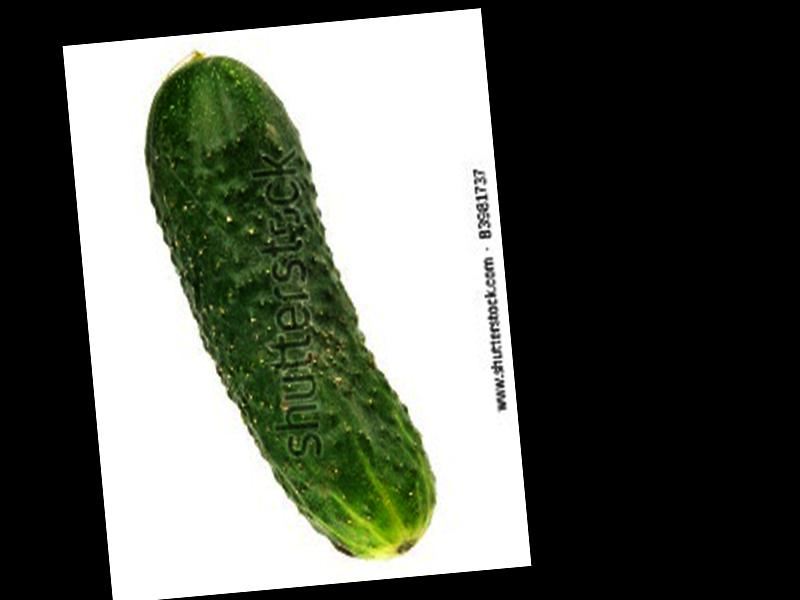Cucumber: (136, 38, 439, 574)
